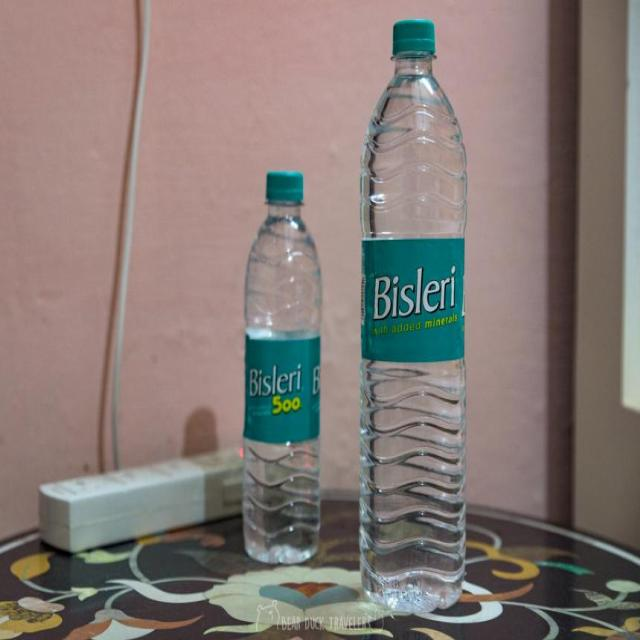bottle: (350, 9, 478, 627), (238, 160, 328, 568)
